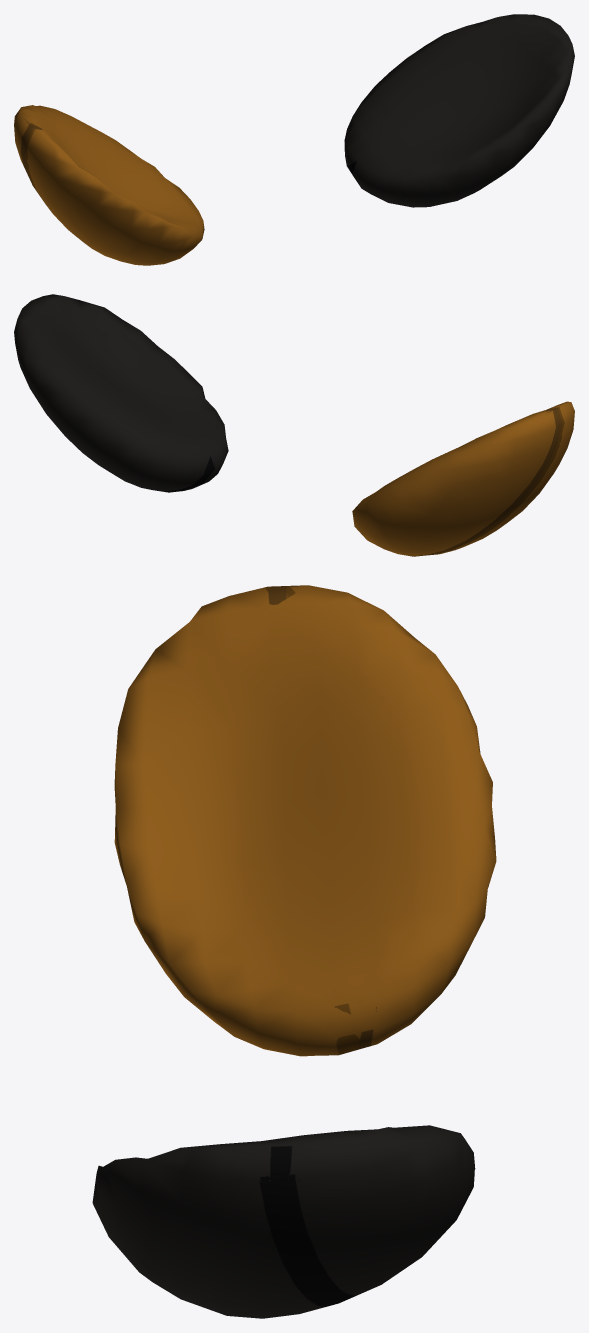
The model's file is calicoeyelids.obj.
3 views of the same model, one above another, from view 1: azimuth 30°, elevation 25°; view 2: azimuth 150°, elevation 25°; view 3: azimuth 270°, elevation 25° (orthographic). The views are drawn at different scales.
Visible parts, largest first — view 1: Group12251; view 2: Group12251; view 3: Group12251.
Boxes of the visible parts, x1,y1,x2,y2 form: Group12251: (14, 14, 574, 265); Group12251: (14, 294, 574, 556); Group12251: (92, 585, 496, 1318).
Bounding box in the file's own units: 4.17 × 1.26 × 1.37.
Materials: 1 (1 with a texture image).
